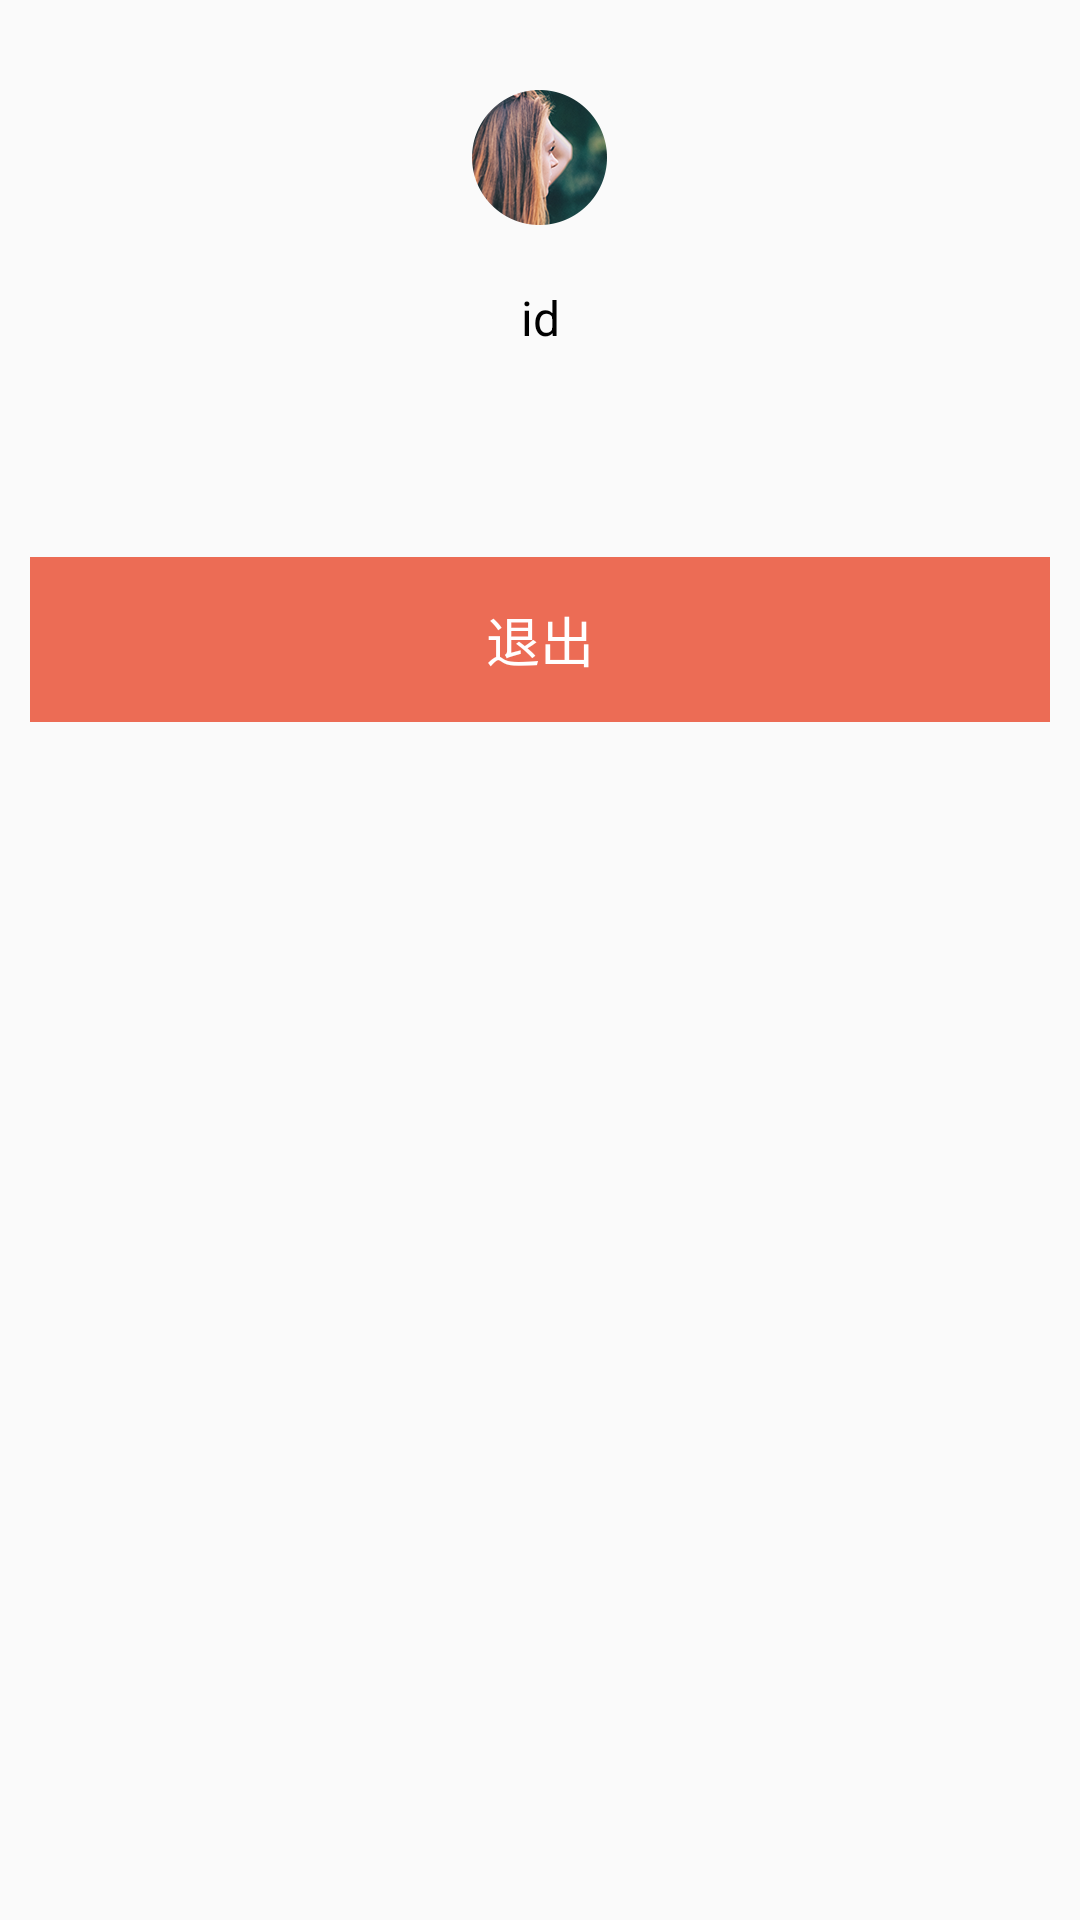

Where to tap for icons on this 1080x1920 app screen, as (x=x, y=y):
face: (x=539, y=157)
